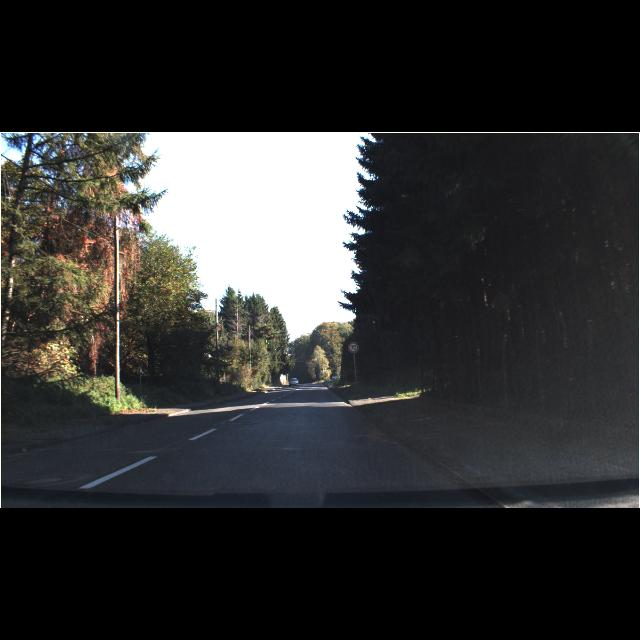prohibitory: (347, 341, 359, 353)
